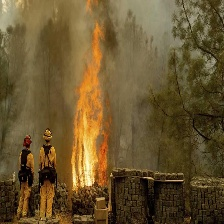fire: (73, 27, 111, 190)
smoke: (11, 1, 72, 160), (116, 1, 173, 169)
